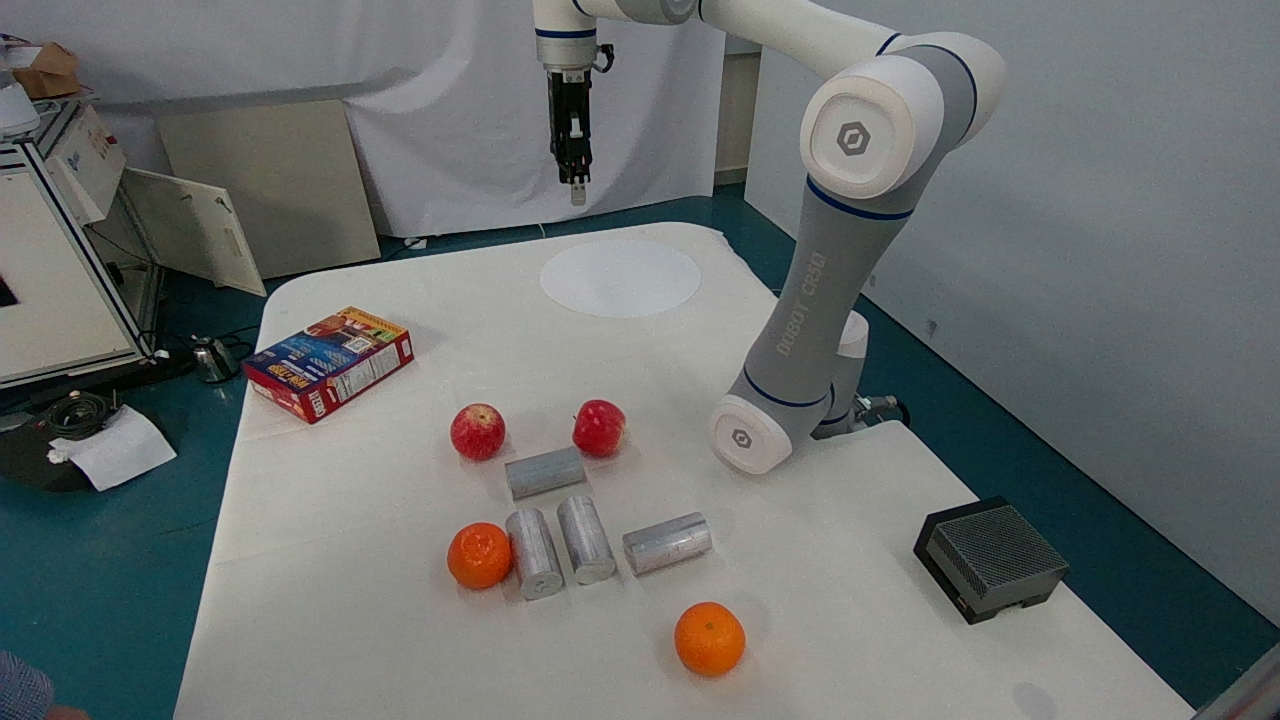apple: (437, 383, 522, 471), (563, 379, 641, 461)
metal rod: (551, 491, 627, 604), (613, 504, 722, 578), (498, 499, 566, 610), (489, 440, 598, 493)
orange: (669, 585, 750, 685), (437, 512, 519, 596)
